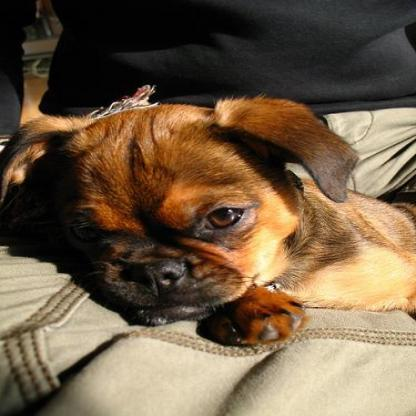Brabancon_griffon: (0, 91, 413, 346)
